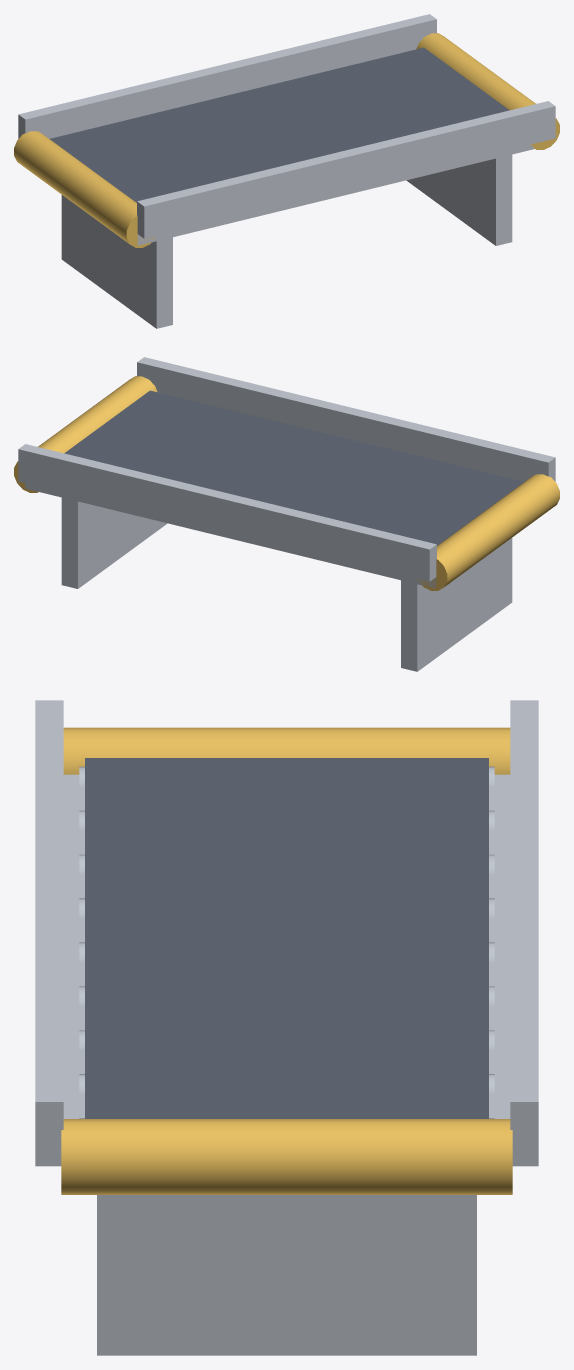
The model's file is conveyor.glb.
3 renders of one model, top to bottom at view 1: azimuth 30°, elevation 25°; view 2: azimuth 150°, elevation 25°; view 3: azimuth 270°, elevation 25°, orthographic. The views are drawn at different scales.
Parts seen in each view (by area): view 1: Frame, Belt, DriveRollers; view 2: Frame, Belt, DriveRollers; view 3: Belt, Frame, DriveRollers, Rollers.
Part boxes in pixels (x1,y1,x2,y2): Frame: (18, 14, 555, 328); Belt: (50, 47, 509, 202); DriveRollers: (14, 33, 559, 247); Frame: (18, 357, 555, 671); Belt: (64, 390, 523, 545); DriveRollers: (14, 376, 559, 590); Belt: (85, 758, 488, 1118); Frame: (35, 700, 538, 1355); DriveRollers: (61, 727, 512, 1194); Rollers: (79, 766, 494, 1118).
Size of the model in its own units: 4.21 by 1.31 by 2.12.
